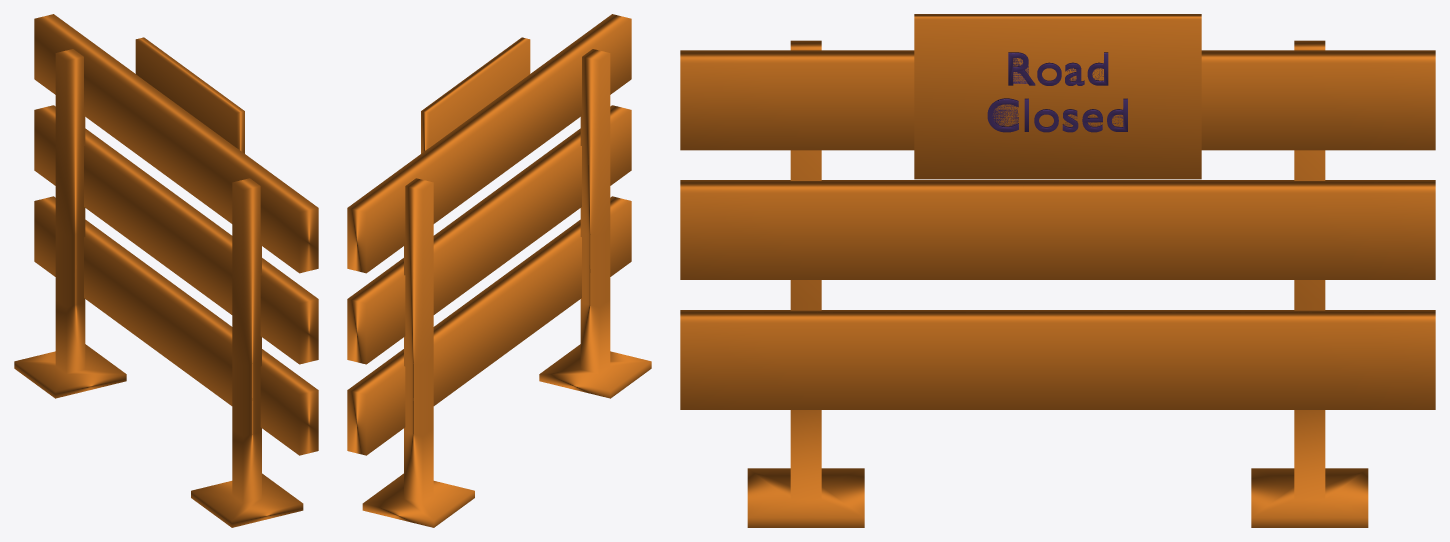
Rendered from RoadClosedBarrier.fbx.
3 renders of one model, left to right at view 1: azimuth 30°, elevation 25°; view 2: azimuth 150°, elevation 25°; view 3: azimuth 270°, elevation 25°, orthographic. The views are drawn at different scales.
Parts seen in each view (by area): view 1: RoadBlock; view 2: RoadBlock; view 3: RoadBlock.
Part boxes in pixels (left/top/right/bottom): RoadBlock: left=14, top=14, right=318, bottom=527; RoadBlock: left=347, top=14, right=651, bottom=527; RoadBlock: left=680, top=14, right=1435, bottom=527.
Bounding box in the file's own units: 28.87 × 133 × 179.
